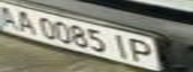0: (33, 15, 60, 40), (51, 19, 72, 45)
5: (87, 26, 109, 54)
8: (69, 22, 90, 50)
A: (12, 8, 39, 35), (0, 2, 21, 30)
I: (109, 31, 133, 60)
P: (124, 36, 160, 64)
